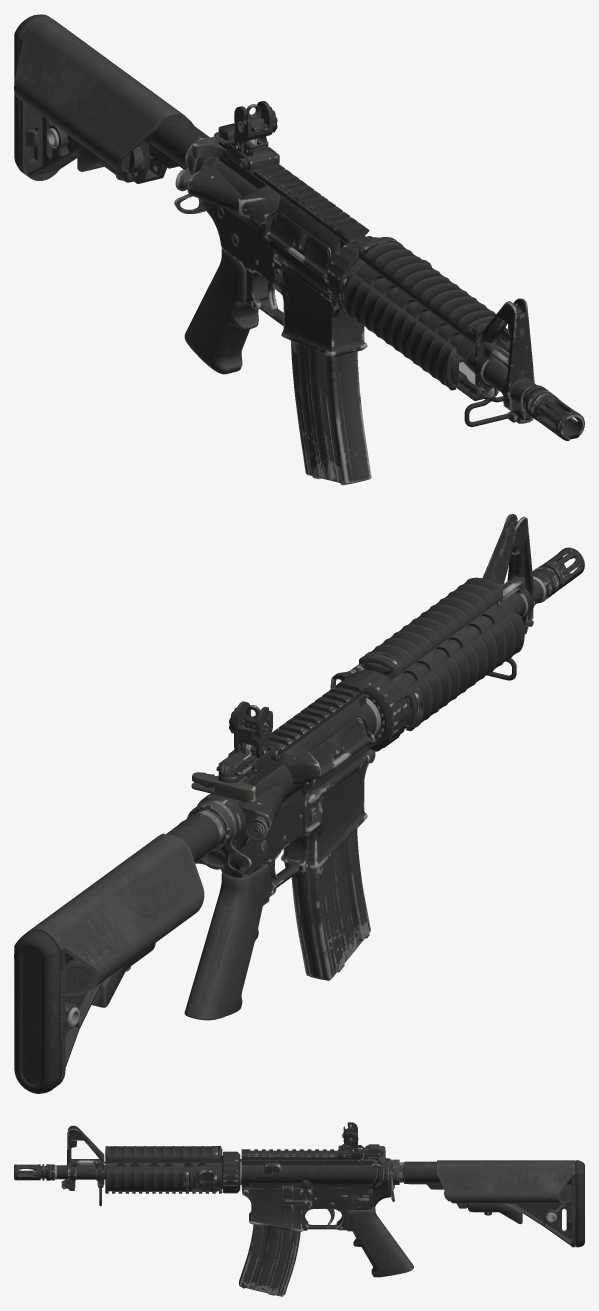
3 renders of one model, top to bottom at view 1: azimuth 30°, elevation 25°; view 2: azimuth 150°, elevation 25°; view 3: azimuth 270°, elevation 25°, orthographic. The views are drawn at different scales.
Visible parts, largest first — view 1: M4A4_CS2; view 2: M4A4_CS2; view 3: M4A4_CS2.
Part boxes in pixels (bbox=[...]): M4A4_CS2: bbox=[14, 14, 584, 485]; M4A4_CS2: bbox=[14, 514, 584, 1093]; M4A4_CS2: bbox=[14, 1122, 584, 1296].
Bounding box in the file's own units: 9.13 × 29.2 × 89.64.
